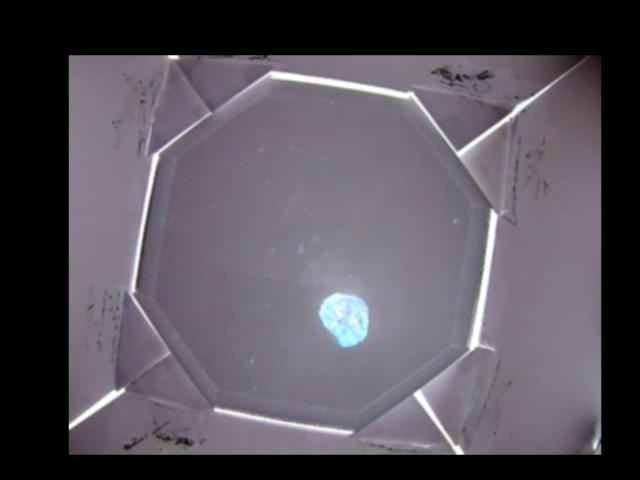Brisk: (320, 292, 369, 347)
